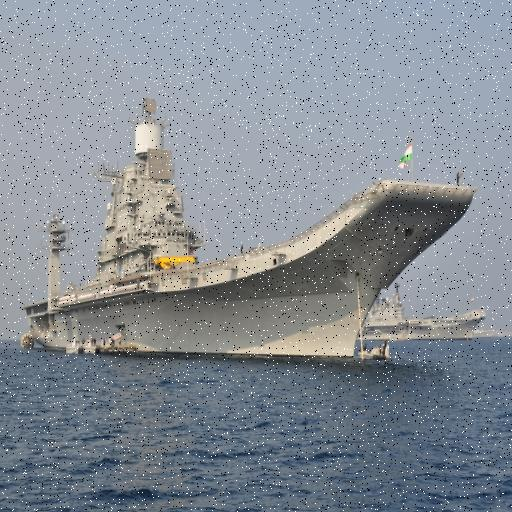Portanaves: (22, 81, 481, 368), (371, 286, 488, 344)
